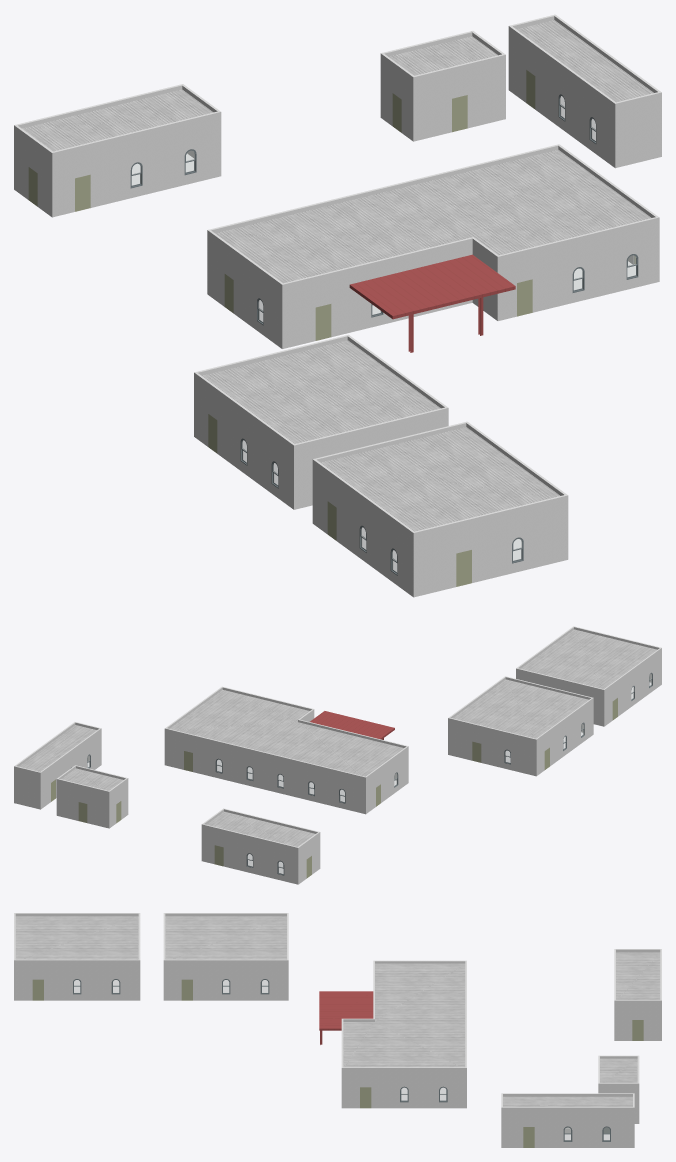
The model's file is Plan(REF)_levels(1)_window(W Arch Head 23_3-5)_wall(WAFRA WALL)_quoin(N)_cornice(N).fbx.
3 views of the same model, one above another, from view 1: azimuth 30°, elevation 25°; view 2: azimuth 150°, elevation 25°; view 3: azimuth 270°, elevation 25° (orthographic). The views are drawn at different scales.
Parts seen in each view (by area): view 1: WAFRA Stucco - White Rough 23, WAFRA Roof - Corrugated Sheet Matte 23, WAFRA Roof - Standing Seam Red Coat 23, Color - Beige, Metal - Finish - Aluminum, Glass - Clear; view 2: WAFRA Stucco - White Rough 23, WAFRA Roof - Corrugated Sheet Matte 23, Color - Beige, WAFRA Roof - Standing Seam Red Coat 23, Metal - Finish - Aluminum, Glass - Clear; view 3: WAFRA Roof - Corrugated Sheet Matte 23, WAFRA Stucco - White Rough 23, WAFRA Roof - Standing Seam Red Coat 23, Color - Beige, Metal - Finish - Aluminum, Glass - Clear.
Boxes of the visible parts, x1=… form: WAFRA Stucco - White Rough 23: x1=14, y1=14, x2=661, y2=597; WAFRA Roof - Corrugated Sheet Matte 23: x1=22, y1=20, x2=653, y2=531; WAFRA Roof - Standing Seam Red Coat 23: x1=349, y1=254, x2=515, y2=352; Color - Beige: x1=28, y1=70, x2=635, y2=586; Metal - Finish - Aluminum: x1=130, y1=94, x2=638, y2=575; Glass - Clear: x1=132, y1=96, x2=635, y2=571; WAFRA Stucco - White Rough 23: x1=14, y1=626, x2=661, y2=884; WAFRA Roof - Corrugated Sheet Matte 23: x1=19, y1=629, x2=656, y2=846; Color - Beige: x1=51, y1=698, x2=617, y2=878; WAFRA Roof - Standing Seam Red Coat 23: x1=310, y1=711, x2=394, y2=739; Metal - Finish - Aluminum: x1=70, y1=672, x2=652, y2=875; Glass - Clear: x1=87, y1=674, x2=651, y2=873; WAFRA Roof - Corrugated Sheet Matte 23: x1=15, y1=916, x2=660, y2=1106; WAFRA Stucco - White Rough 23: x1=14, y1=913, x2=661, y2=1147; WAFRA Roof - Standing Seam Red Coat 23: x1=319, y1=991, x2=373, y2=1044; Color - Beige: x1=32, y1=979, x2=643, y2=1147; Metal - Finish - Aluminum: x1=73, y1=979, x2=610, y2=1141; Glass - Clear: x1=74, y1=980, x2=609, y2=1139.
Bounding box in the file's own units: 4148 × 5833 × 400.
11 materials, 4 textured.
